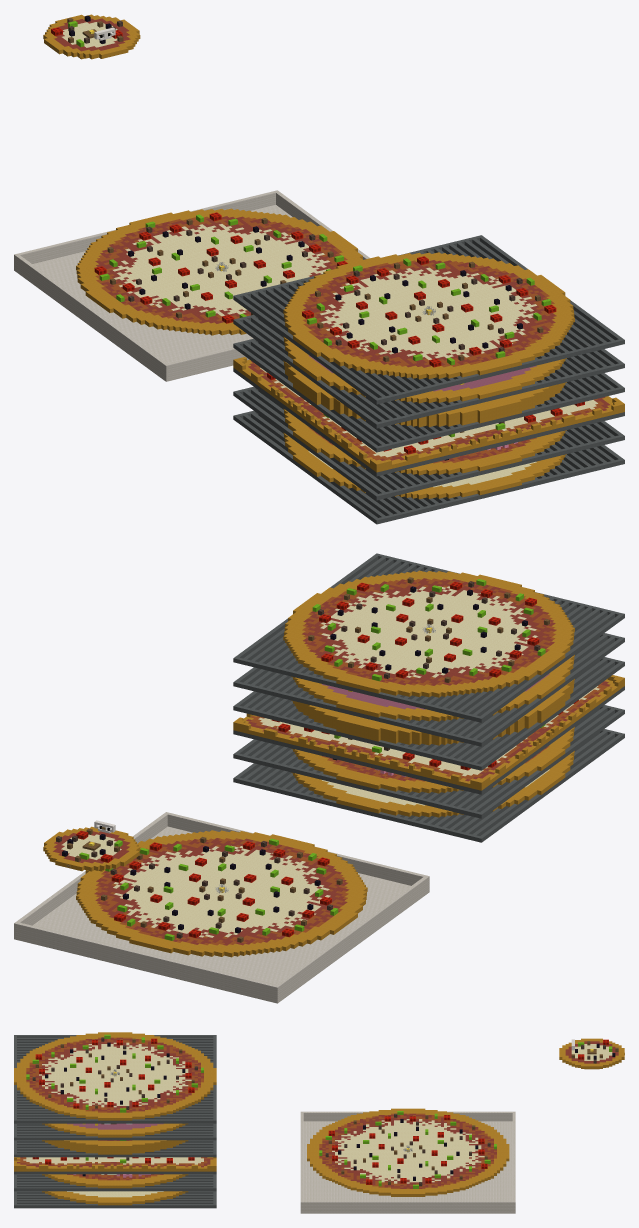
File: minecraft.obj
3 renders of one model, top to bottom at view 1: azimuth 30°, elevation 25°; view 2: azimuth 150°, elevation 25°; view 3: azimuth 270°, elevation 25°, orthographic. The views are drawn at different scales.
Size of the model in its own units: 69 by 45.5 by 196.
